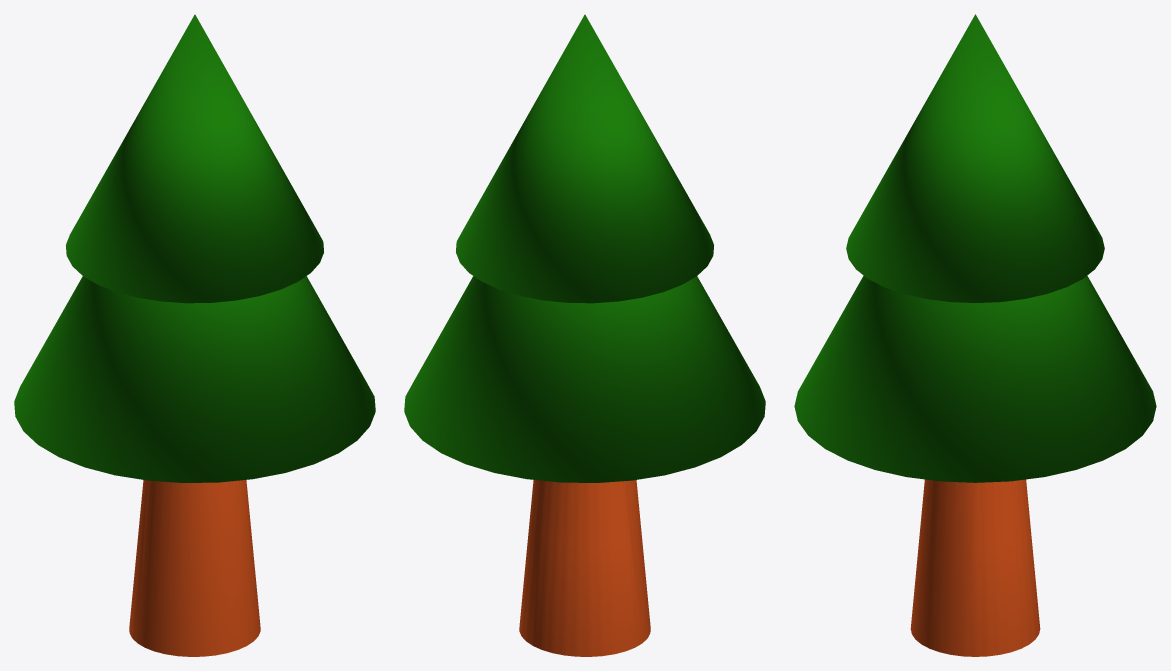
File: NewPine.fbx
3 renders of one model, left to right at view 1: azimuth 30°, elevation 25°; view 2: azimuth 150°, elevation 25°; view 3: azimuth 270°, elevation 25°, orthographic.
Visible parts, largest first — view 1: Cone.001, Cone, Cylinder; view 2: Cone.001, Cone, Cylinder; view 3: Cone.001, Cone, Cylinder.
Boxes of the visible parts, <box> form: Cone.001: <box>14,276,375,482</box>; Cone: <box>66,14,323,303</box>; Cylinder: <box>129,480,260,656</box>; Cone.001: <box>404,276,765,482</box>; Cone: <box>456,14,713,303</box>; Cylinder: <box>519,480,650,656</box>; Cone.001: <box>794,275,1156,482</box>; Cone: <box>846,14,1104,302</box>; Cylinder: <box>910,479,1040,656</box>.
Size of the model in its own units: 1235 by 2314 by 1235.
